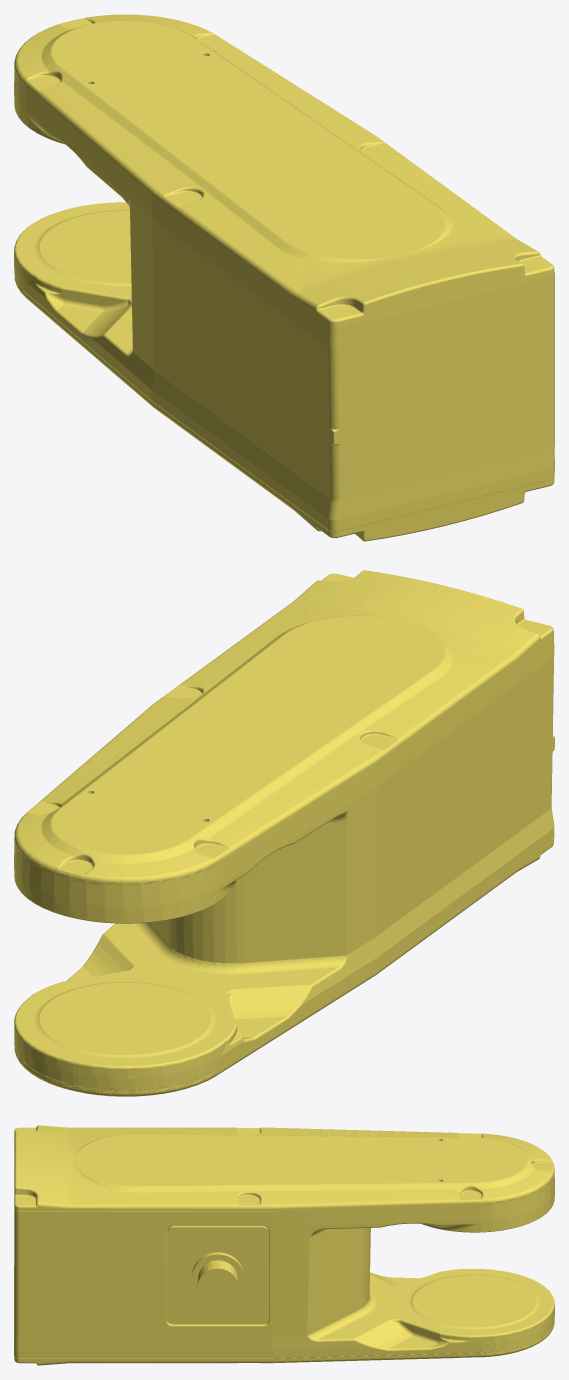
File: FanucLRMate200iCLink4.dae
3 renders of one model, top to bottom at view 1: azimuth 30°, elevation 25°; view 2: azimuth 150°, elevation 25°; view 3: azimuth 270°, elevation 25°, orthographic. The views are drawn at different scales.
Visible parts, largest first — view 1: Fanuc200iDLink4; view 2: Fanuc200iDLink4; view 3: Fanuc200iDLink4.
Part boxes in pixels (x1=…): Fanuc200iDLink4: x1=14, y1=14, x2=554, y2=541; Fanuc200iDLink4: x1=14, y1=570, x2=554, y2=1096; Fanuc200iDLink4: x1=14, y1=1125, x2=554, y2=1365.
Bounding box in the file's own units: 0.1139 × 0.2878 × 0.1047.
